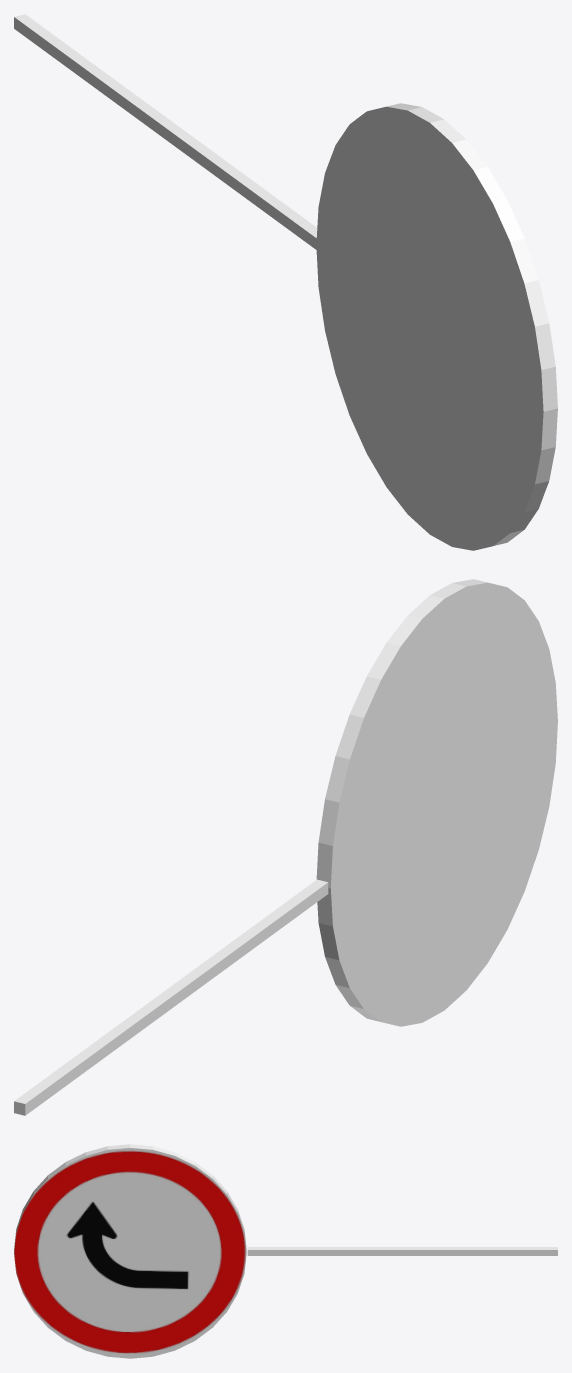
The model's file is direita.obj.
The picture shows the model from 3 angles, top to bottom: view 1: azimuth 30°, elevation 25°; view 2: azimuth 150°, elevation 25°; view 3: azimuth 270°, elevation 25°; orthographic projection. The views are drawn at different scales.
Visible parts, largest first — view 1: Placa_direita_direita; view 2: Placa_direita_direita; view 3: Placa_direita_direita.
Part boxes in pixels (x1,y1,x2,y2): Placa_direita_direita: (14, 14, 557, 550); Placa_direita_direita: (14, 579, 557, 1115); Placa_direita_direita: (14, 1144, 557, 1358).
Size of the model in its own units: 0.011 by 0.3 by 0.7012.
1 material, 1 textured.
